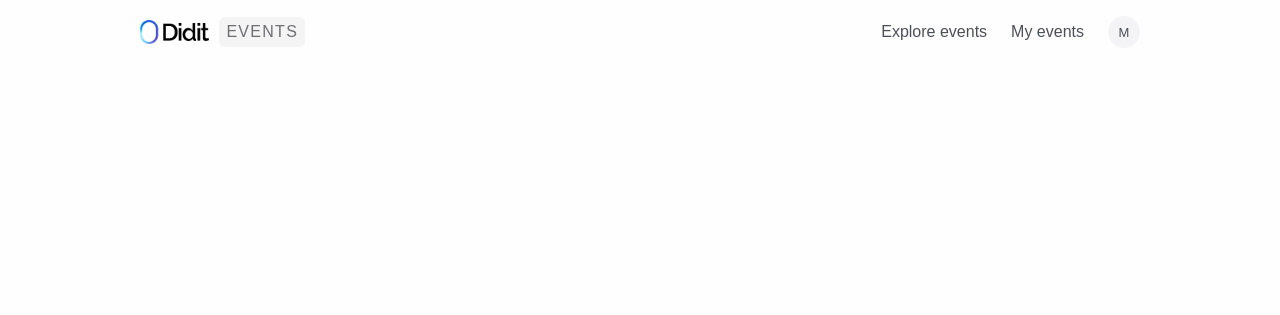
it: header avatar menu › a click outside closes it; clicking the avatar again toggles it
Click the button "M": (1124, 32) [1102, 10, 1146, 54]
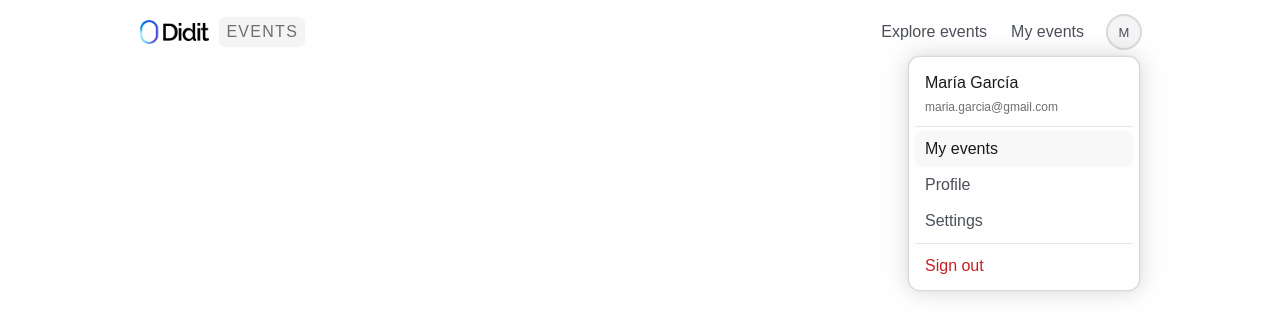
Expected: the menu is shown, [908, 56, 1140, 291]
Press the mouse on the element that starts with "EVENTS": (640, 32) [0, 0, 1279, 64]
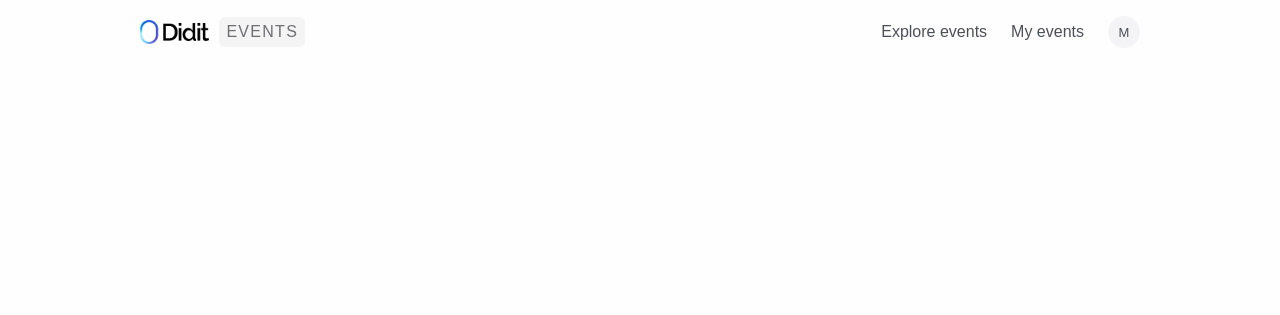
Expected: the menu is gone
Click the button "M": (1124, 32) [1102, 10, 1146, 54]
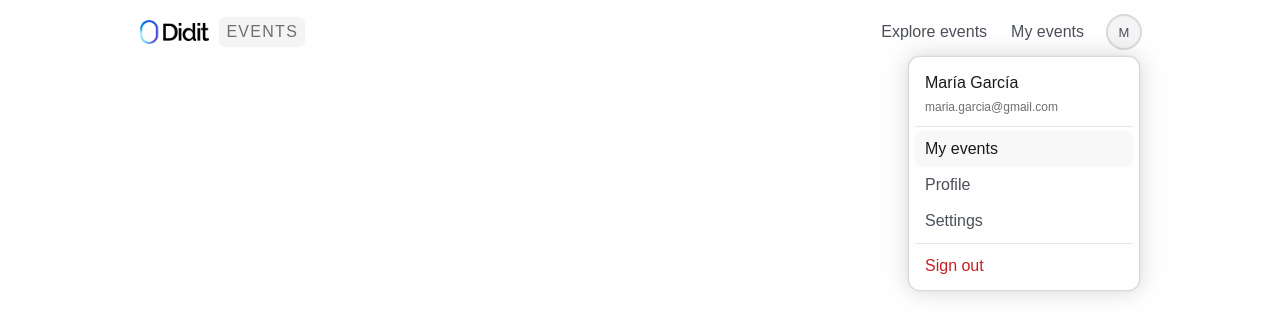
Expected: the menu is shown, [908, 56, 1140, 291]
Click the button "M": (1124, 32) [1102, 10, 1146, 54]
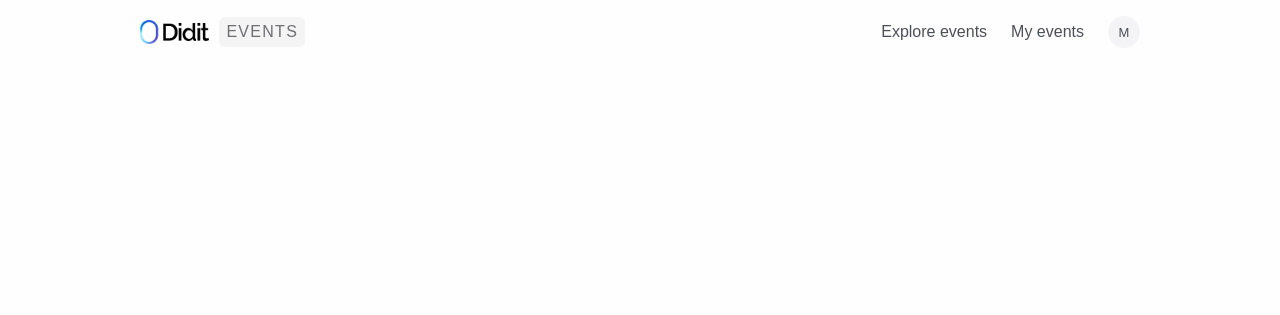
Expected: the menu is gone
